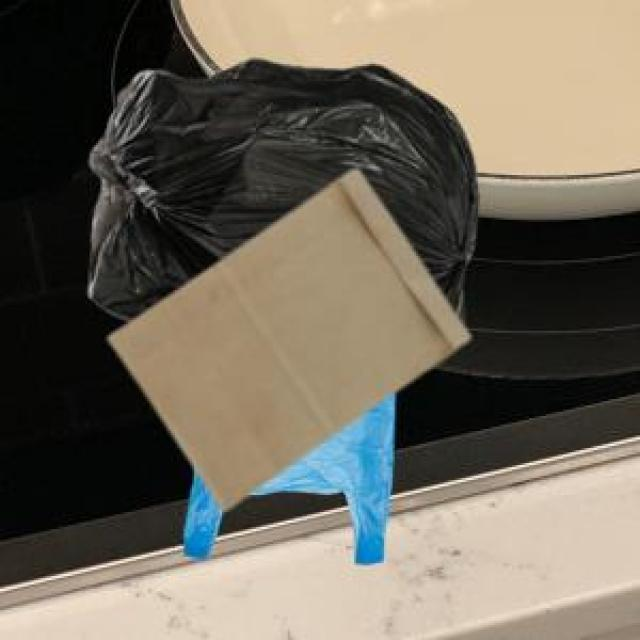miscellaneous trash: (85, 56, 474, 324)
paper: (105, 166, 465, 506)
